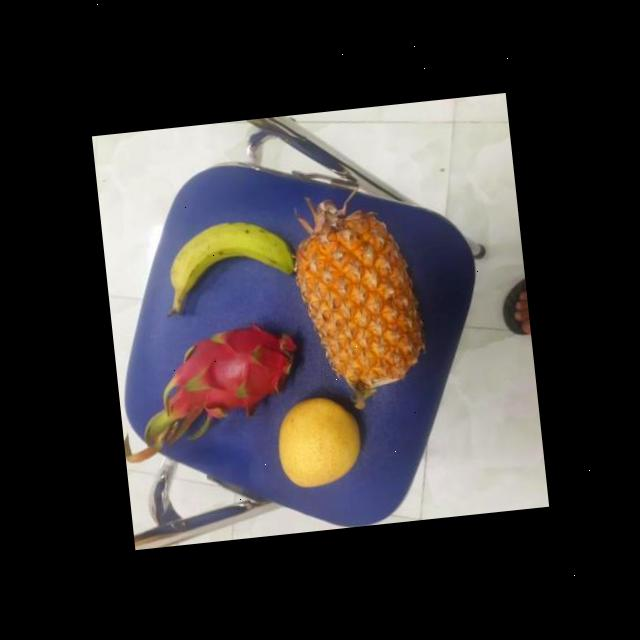banana: (162, 212, 295, 312)
pear: (272, 386, 365, 491)
pineapple: (288, 198, 426, 396)
pitaya: (169, 314, 303, 426)
